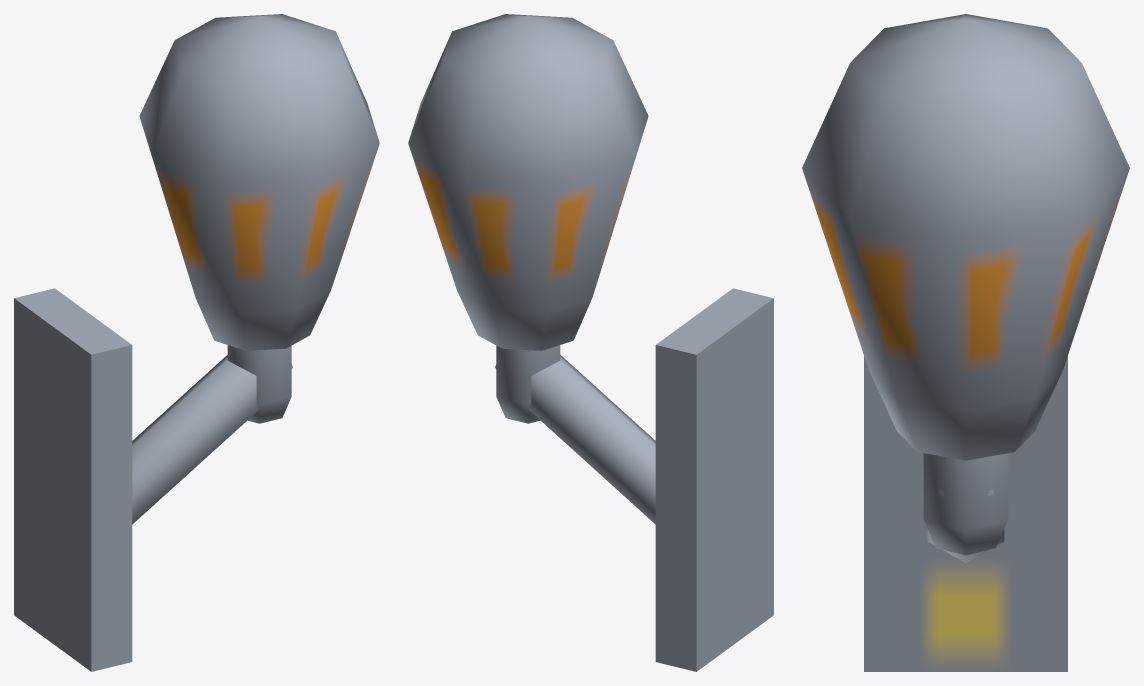
The model's file is prop_torchfalse_e1c4.glb.
3 views of the same model, side by side, from view 1: azimuth 30°, elevation 25°; view 2: azimuth 150°, elevation 25°; view 3: azimuth 270°, elevation 25° (orthographic). The views are drawn at different scales.
Parts seen in each view (by area): view 1: prop_torchfalse_e1c4; view 2: prop_torchfalse_e1c4; view 3: prop_torchfalse_e1c4.
Boxes of the visible parts, box(x1,y1,x2,y2) form: prop_torchfalse_e1c4: box(14, 14, 379, 671); prop_torchfalse_e1c4: box(408, 14, 773, 671); prop_torchfalse_e1c4: box(802, 14, 1129, 671).
Size of the model in its own units: 0.4772 by 0.8353 by 0.327.
1 material, 1 textured.
